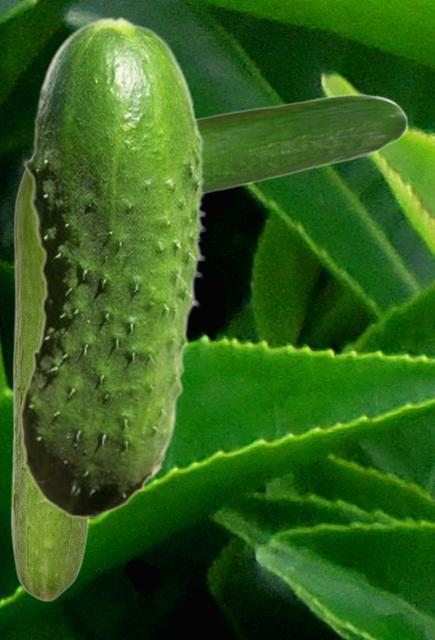cucumber: (19, 15, 206, 518), (10, 169, 90, 601), (198, 93, 407, 194)
